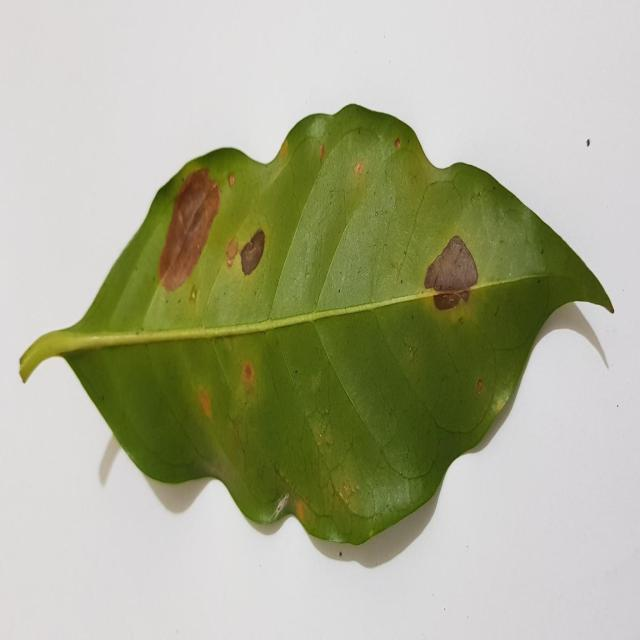Plaga-Minador: (18, 105, 616, 548)
